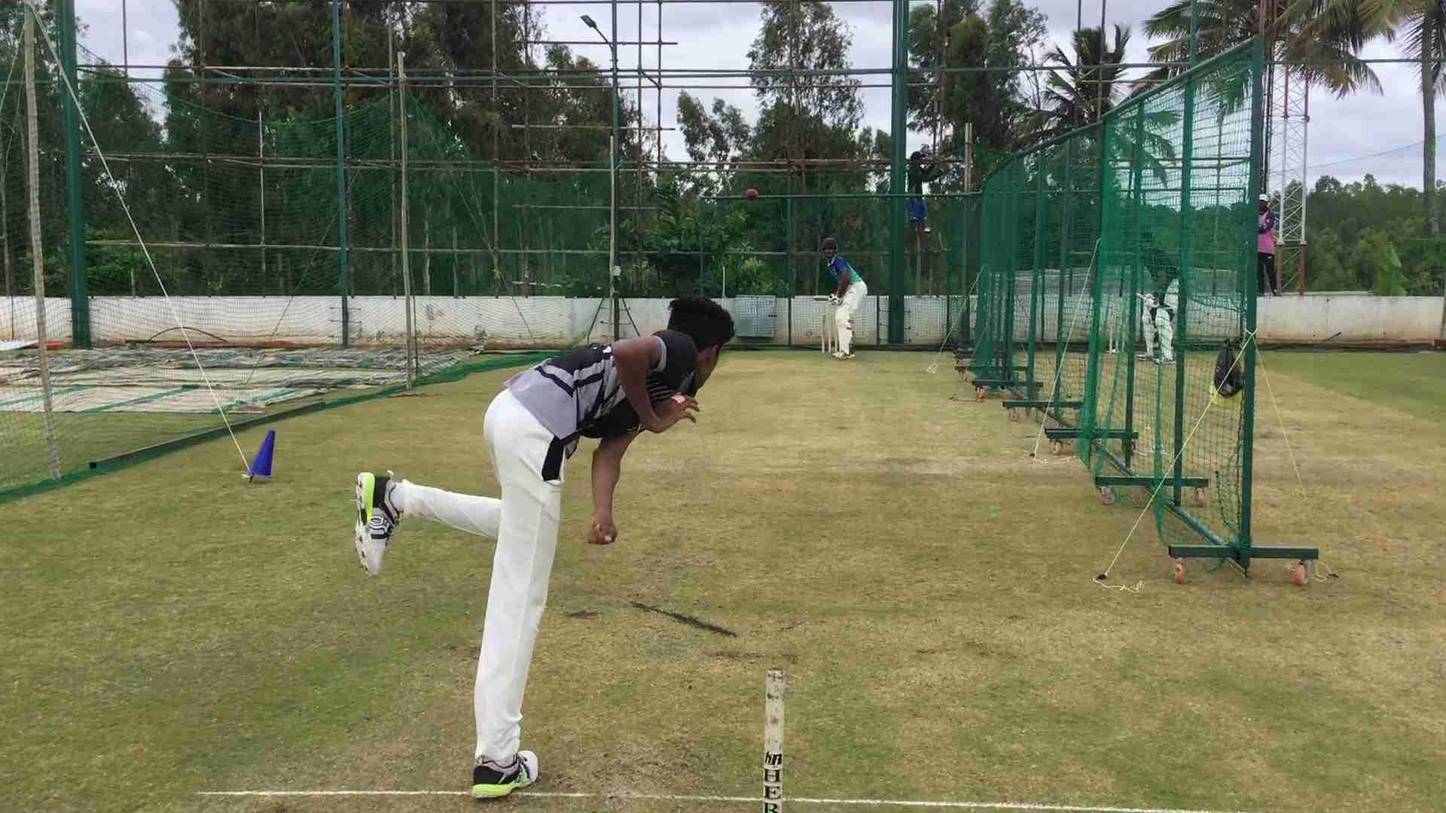batsman: (813, 236, 881, 367)
